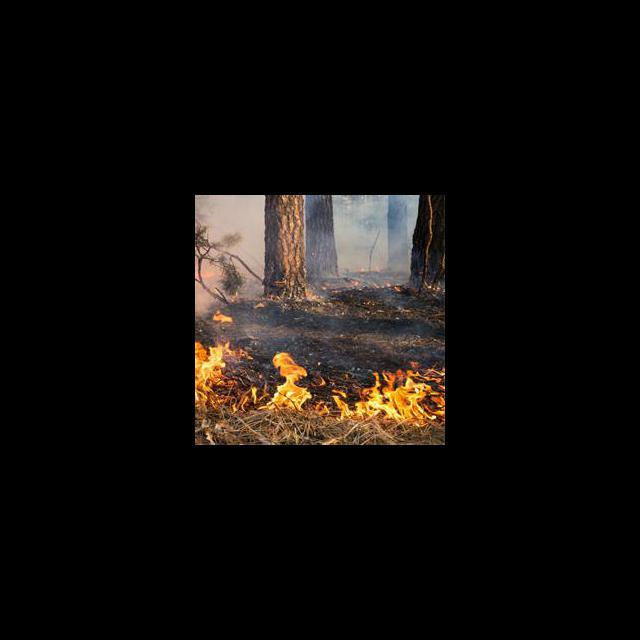Fire: (196, 330, 445, 424)
